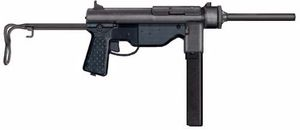rifle: (1, 2, 299, 130)
